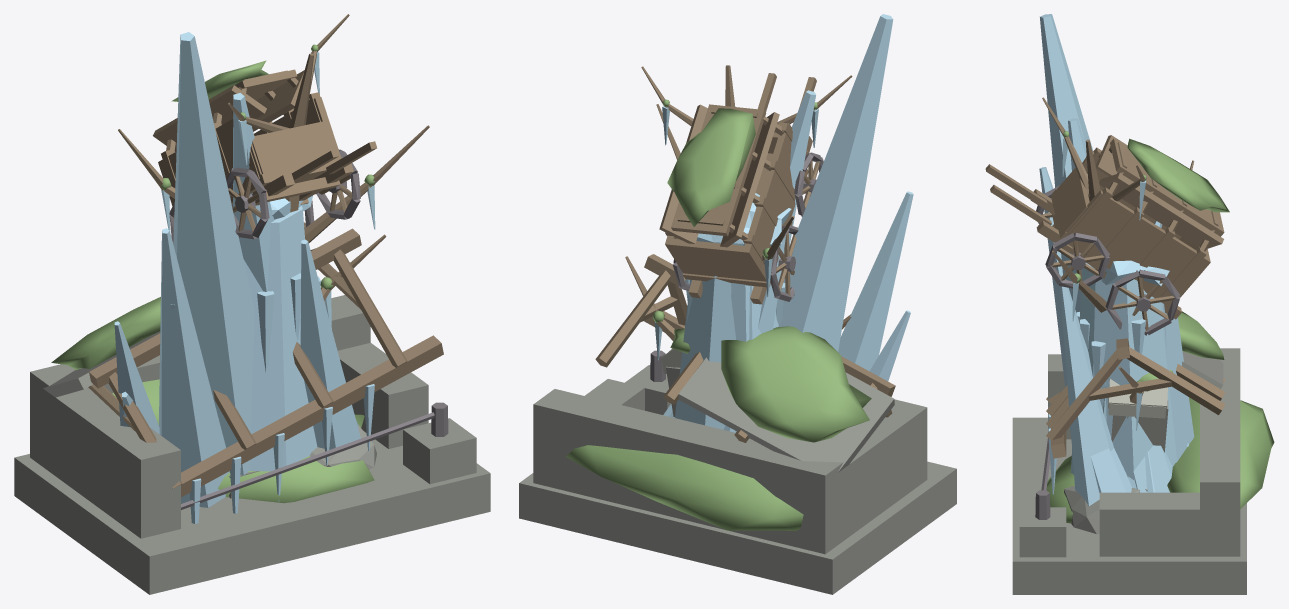
The model's file is FrozenF18Kit.fbx.
The picture shows the model from 3 angles, left to right: view 1: azimuth 30°, elevation 25°; view 2: azimuth 150°, elevation 25°; view 3: azimuth 270°, elevation 25°; orthographic projection. The views are drawn at different scales.
Parts seen in each view (by area): view 1: TollShelterRuins__STONE, SeracCluster__CRYSTAL, TollShelterRuins__WOOD, CrevasseCartPillar__WOOD, CrevasseCartPillar__CRYSTAL, SeracCluster__MOSS, FrozenBareTree__WOOD, TollShelterRuins__MOSS, CrevasseCartPillar__METAL, TollShelterRuins__METAL, TollShelterRuins__CRYSTAL, FrozenBareTree__CRYSTAL (+2 smaller); view 2: TollShelterRuins__STONE, SeracCluster__CRYSTAL, TollShelterRuins__MOSS, CrevasseCartPillar__WOOD, CrevasseCartPillar__CRYSTAL, CrevasseCartPillar__MOSS, TollShelterRuins__WOOD, FrozenBareTree__WOOD, CrevasseCartPillar__METAL, FrozenBareTree__CRYSTAL; view 3: TollShelterRuins__STONE, CrevasseCartPillar__WOOD, SeracCluster__CRYSTAL, CrevasseCartPillar__CRYSTAL, TollShelterRuins__MOSS, TollShelterRuins__WOOD, CrevasseCartPillar__METAL, CrevasseCartPillar__MOSS, FrozenBareTree__WOOD, GlacierShrine__TRIM, SeracCluster__STONE, SeracCluster__MOSS (+3 smaller).
Part boxes in pixels (x1,y1,x2,y2): TollShelterRuins__STONE: (14, 295, 490, 594); SeracCluster__CRYSTAL: (114, 32, 360, 507); TollShelterRuins__WOOD: (88, 228, 443, 497); CrevasseCartPillar__WOOD: (153, 69, 376, 231); CrevasseCartPillar__CRYSTAL: (243, 195, 320, 471); SeracCluster__MOSS: (218, 414, 374, 503); FrozenBareTree__WOOD: (118, 14, 429, 300); TollShelterRuins__MOSS: (51, 297, 160, 425); CrevasseCartPillar__METAL: (169, 149, 360, 243); TollShelterRuins__METAL: (181, 402, 448, 509); TollShelterRuins__CRYSTAL: (189, 384, 374, 523); FrozenBareTree__CRYSTAL: (161, 52, 375, 328); TollShelterRuins__STONE: (519, 357, 956, 594); SeracCluster__CRYSTAL: (663, 14, 913, 432); TollShelterRuins__MOSS: (566, 326, 871, 530); CrevasseCartPillar__WOOD: (659, 73, 819, 304); CrevasseCartPillar__CRYSTAL: (675, 193, 791, 432); CrevasseCartPillar__MOSS: (667, 108, 755, 226); TollShelterRuins__WOOD: (595, 254, 895, 442); FrozenBareTree__WOOD: (625, 65, 852, 340); CrevasseCartPillar__METAL: (673, 152, 823, 301); FrozenBareTree__CRYSTAL: (654, 106, 818, 360); TollShelterRuins__STONE: (1012, 348, 1246, 594); CrevasseCartPillar__WOOD: (985, 135, 1224, 330); SeracCluster__CRYSTAL: (1039, 14, 1189, 505); CrevasseCartPillar__CRYSTAL: (1070, 260, 1194, 479); TollShelterRuins__MOSS: (1167, 311, 1274, 508); TollShelterRuins__WOOD: (1046, 338, 1225, 458); CrevasseCartPillar__METAL: (1036, 185, 1180, 335); CrevasseCartPillar__MOSS: (1127, 138, 1229, 212); FrozenBareTree__WOOD: (1042, 97, 1194, 403); GlacierShrine__TRIM: (1108, 379, 1167, 418); SeracCluster__STONE: (1064, 485, 1147, 534); SeracCluster__MOSS: (1046, 456, 1074, 523).
Size of the model in its own units: 20.53 by 31.01 by 17.29.
